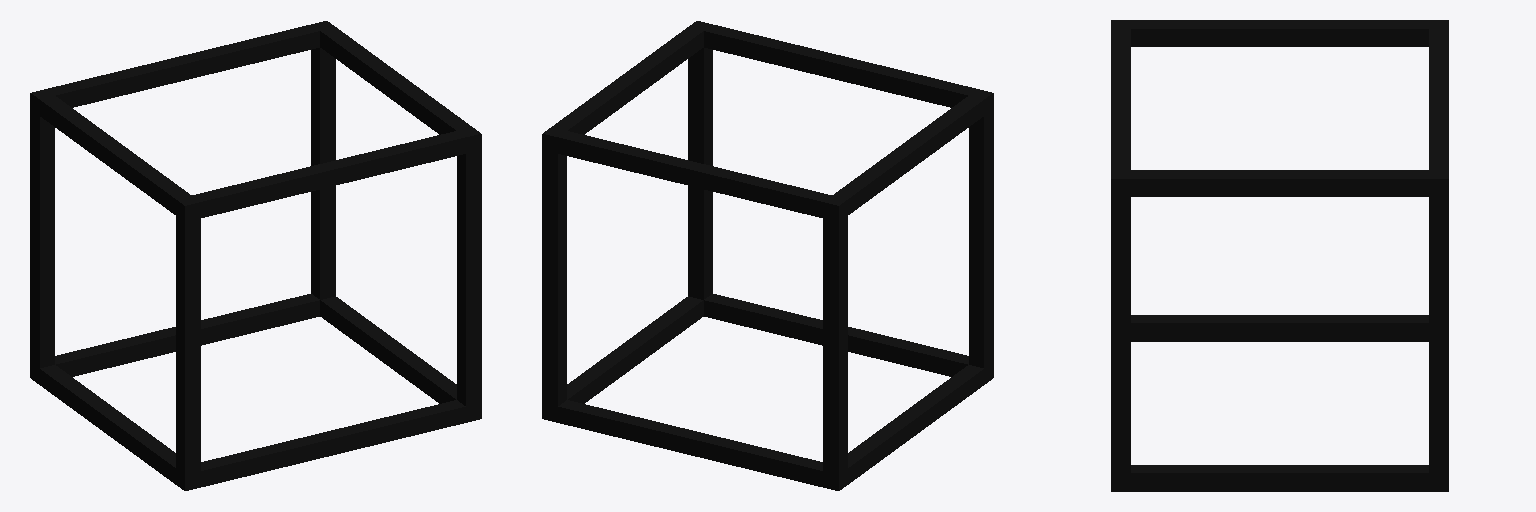
The robot description file, URDF, robot "robot_base":
<robot name = "robot_base">
  <link name="base">
    <inertial>
    <mass value="0.001"/>
    <inertia ixx="0.0001" ixy="0.0" ixz="0.0" iyy="0.0001" iyz="0.0" izz="0.0001"/>
    </inertial>
    <!-- Box edge visualization -->
    <!-- Top face -->
    <visual>
      <origin rpy="0 0 0" xyz="0.26749999999999996 0 -0.245"/>
      <geometry>
        <box size="0.03 0.51 0.03"/>
      </geometry>
      <material name="Mat Black 1">
        <color rgba="0.1 0.1 0.1 1.0"/>
      </material>
    </visual>
    <visual>
      <origin rpy="0 0 0" xyz="0.26749999999999996 0 0.245"/>
      <geometry>
        <box size="0.03 0.51 0.03"/>
      </geometry>
      <material name="Mat Black 1">
        <color rgba="0.1 0.1 0.1 1.0"/>
      </material>
    </visual>
    <visual>
      <origin rpy="0 0 0" xyz="0.26749999999999996 -0.24 0"/>
      <geometry>
        <box size="0.03 0.03 0.52"/>
      </geometry>
      <material name="Mat Black 1">
        <color rgba="0.1 0.1 0.1 1.0"/>
      </material>
    </visual>
    <visual>
      <origin rpy="0 0 0" xyz="0.26749999999999996 0.24 0"/>
      <geometry>
        <box size="0.03 0.03 0.52"/>
      </geometry>
      <material name="Mat Black 1">
        <color rgba="0.1 0.1 0.1 1.0"/>
      </material>
    </visual>
    <!-- Bottom face -->
    <visual>
      <origin rpy="0 0 0" xyz="-0.26749999999999996 0 -0.245"/>
      <geometry>
        <box size="0.03 0.51 0.03"/>
      </geometry>
      <material name="Mat Black 1">
        <color rgba="0.1 0.1 0.1 1.0"/>
      </material>
    </visual>
    <visual>
      <origin rpy="0 0 0" xyz="-0.26749999999999996 0 0.245"/>
      <geometry>
        <box size="0.03 0.51 0.03"/>
      </geometry>
      <material name="Mat Black 1">
        <color rgba="0.1 0.1 0.1 1.0"/>
      </material>
    </visual>
    <visual>
      <origin rpy="0 0 0" xyz="-0.26749999999999996 -0.24 0"/>
      <geometry>
        <box size="0.03 0.03 0.52"/>
      </geometry>
      <material name="Mat Black 1">
        <color rgba="0.1 0.1 0.1 1.0"/>
      </material>
    </visual>
    <visual>
      <origin rpy="0 0 0" xyz="-0.26749999999999996 0.24 0"/>
      <geometry>
        <box size="0.03 0.03 0.52"/>
      </geometry>
      <material name="Mat Black 1">
        <color rgba="0.1 0.1 0.1 1.0"/>
      </material>
    </visual>
    <!-- Side faces -->
    <!-- right -->
    <visual>
      <origin rpy="0 0 0" xyz="0 0.24 -0.245"/>
      <geometry>
        <box size="0.565 0.03 0.03"/>
      </geometry>
      <material name="Mat Black 1">
        <color rgba="0.1 0.1 0.1 1.0"/>
      </material>
    </visual>
    <visual>
      <origin rpy="0 0 0" xyz="0 0.24 0.245"/>
      <geometry>
        <box size="0.565 0.03 0.03"/>
      </geometry>
      <material name="Mat Black 1">
        <color rgba="0.1 0.1 0.1 1.0"/>
      </material>
    </visual>
    <visual>
      <origin rpy="0 0 0" xyz="-0.26749999999999996 0.24 0"/>
      <geometry>
        <box size="0.03 0.03 0.52"/>
      </geometry>
      <material name="Mat Black 1">
        <color rgba="0.1 0.1 0.1 1.0"/>
      </material>
    </visual>
    <visual>
      <origin rpy="0 0 0" xyz="0.26749999999999996 0.24 0"/>
      <geometry>
        <box size="0.03 0.03 0.52"/>
      </geometry>
      <material name="Mat Black 1">
        <color rgba="0.1 0.1 0.1 1.0"/>
      </material>
    </visual>
    <!-- left -->
    <visual>
      <origin rpy="0 0 0" xyz="0 -0.24 -0.245"/>
      <geometry>
        <box size="0.565 0.03 0.03"/>
      </geometry>
      <material name="Mat Black 1">
        <color rgba="0.1 0.1 0.1 1.0"/>
      </material>
    </visual>
    <visual>
      <origin rpy="0 0 0" xyz="0 -0.24 0.245"/>
      <geometry>
        <box size="0.565 0.03 0.03"/>
      </geometry>
      <material name="Mat Black 1">
        <color rgba="0.1 0.1 0.1 1.0"/>
      </material>
    </visual>
    <visual>
      <origin rpy="0 0 0" xyz="-0.26749999999999996 -0.24 0"/>
      <geometry>
        <box size="0.03 0.03 0.52"/>
      </geometry>
      <material name="Mat Black 1">
        <color rgba="0.1 0.1 0.1 1.0"/>
      </material>
    </visual>
    <visual>
      <origin rpy="0 0 0" xyz="0.26749999999999996 -0.24 0"/>
      <geometry>
        <box size="0.03 0.03 0.52"/>
      </geometry>
      <material name="Mat Black 1">
        <color rgba="0.1 0.1 0.1 1.0"/>
      </material>
    </visual>
    <!-- Solid box collision -->
    <collision>
      <origin rpy="0 0 0" xyz="0 0 0"/>
      <geometry>
        <box size="0.565 0.51 0.52"/>
      </geometry>
    </collision>
  </link>
  <!-- <link name="support">
      <inertial>
    <mass value="0.001"/>
    <inertia ixx="0.0001" ixy="0.0" ixz="0.0" iyy="0.0001" iyz="0.0" izz="0.0001"/>
    </inertial>
    <visual>
      <origin rpy="0 0 0" xyz="0 0 0"/>
      <geometry>
        <box size="0.155 0.721 0.02"/>
      </geometry>
      <material name="Mat Black 2">
        <color rgba="0.15 0.15 0.15 1.0"/>
      </material>
    </visual>
    <collision>
      <origin rpy="0 0 0" xyz="0 0 0"/>
      <geometry>
        <box size="0.155 0.721 0.02"/>
      </geometry>
    </collision>
  </link> -->
</robot>

--- Facts derived from the render (not from the file) ---
3 views of the same robot in one strip: view 1: azimuth 30°, elevation 25°; view 2: azimuth 150°, elevation 25°; view 3: azimuth 270°, elevation 25° (orthographic).
Model robot_base with 1 links and 0 joints (none), rooted at base, posed every joint at zero.
Links seen in each view (by area): view 1: base; view 2: base; view 3: base.
Boxes of the visible links, <box> form: base: <box>30,21,481,490</box>; base: <box>542,21,993,490</box>; base: <box>1111,20,1448,491</box>.
Size in the robot's own frame: 0.565 by 0.51 by 0.52 metres.
Geometry: primitives only (box / cylinder / sphere), no mesh files.